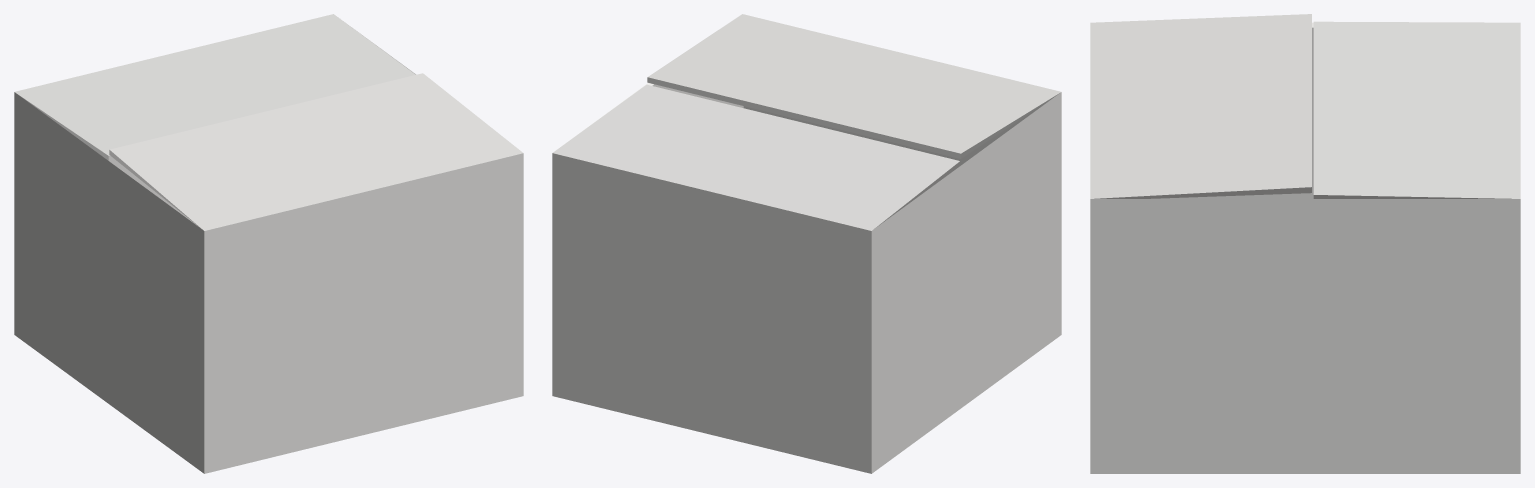
The model's file is SM_carton_05.fbx.
3 views of the same model, side by side, from view 1: azimuth 30°, elevation 25°; view 2: azimuth 150°, elevation 25°; view 3: azimuth 270°, elevation 25° (orthographic). The views are drawn at different scales.
Visible parts, largest first — view 1: Box069; view 2: Box069; view 3: Box069.
Boxes of the visible parts, left/top/right/bottom form: Box069: left=14, top=14, right=523, bottom=473; Box069: left=552, top=14, right=1061, bottom=473; Box069: left=1090, top=14, right=1520, bottom=473.
Size of the model in its own units: 24.82 by 25.59 by 18.72.
